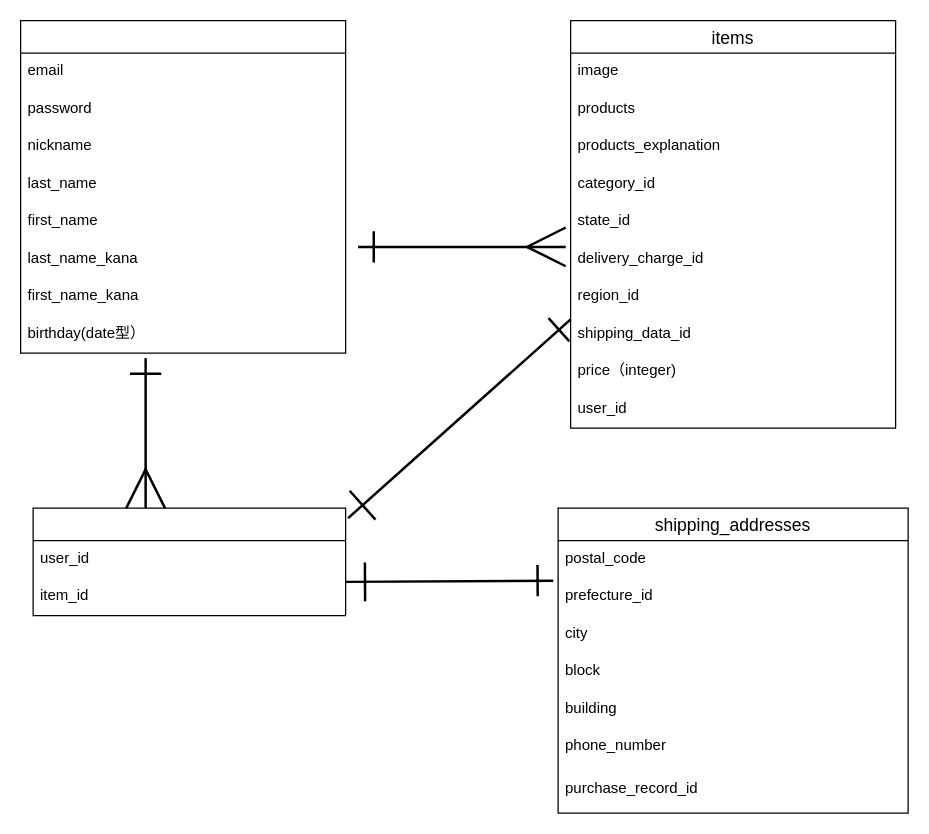
The diagram is 929 pixels wide and 834 high, and some of its shapes have lost their labels. Here are the shapes that lost their labels. From the top down, the box of each, then its label:
(19, 19, 346, 353): users
(32, 507, 346, 616): purchase_records
